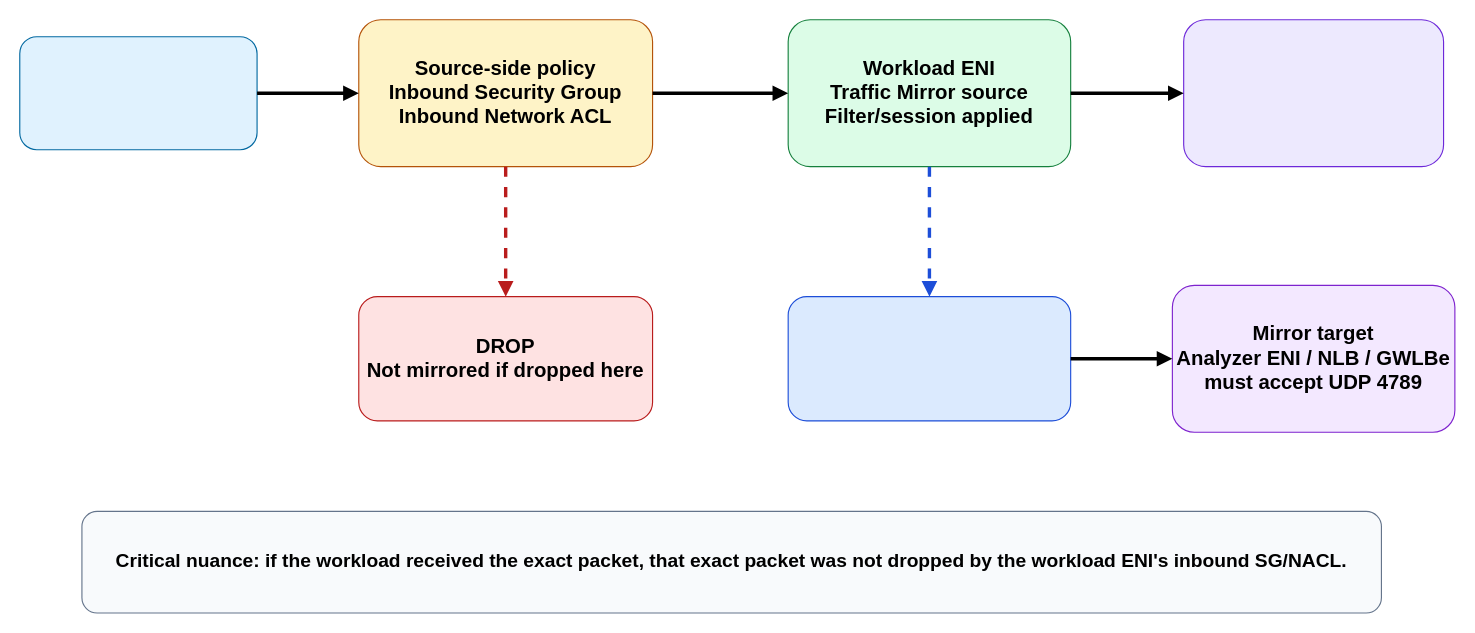
The diagram is 1475 pixels wide and 633 high, and some of its shapes have lost their labels. The box of each missing label's shape, as (x1, y1, x2, y2) in pixels:
Inbound packet from client / peer: (19, 36, 257, 150)
Mirrored copy VXLAN / UDP 4789: (787, 295, 1071, 421)
Workload OS / application receives allowed packet: (1183, 19, 1444, 167)
